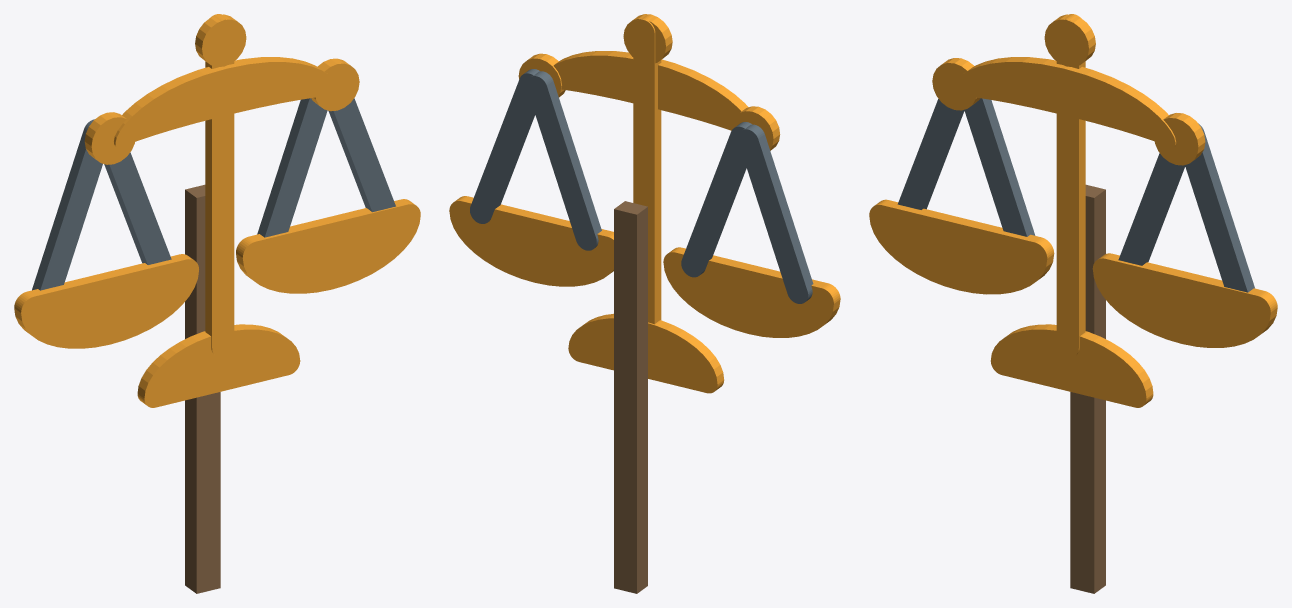
The model's file is balance.glb.
3 renders of one model, left to right at view 1: azimuth 30°, elevation 25°; view 2: azimuth 150°, elevation 25°; view 3: azimuth 330°, elevation 25°, orthographic. The views are drawn at different scales.
Bounding box in the file's own units: 1 × 1.39 × 0.129.
